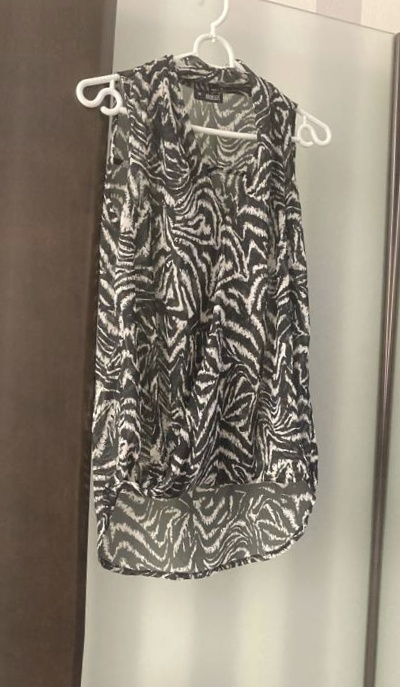Dress: (30, 33, 368, 599), (0, 686, 332, 687)
